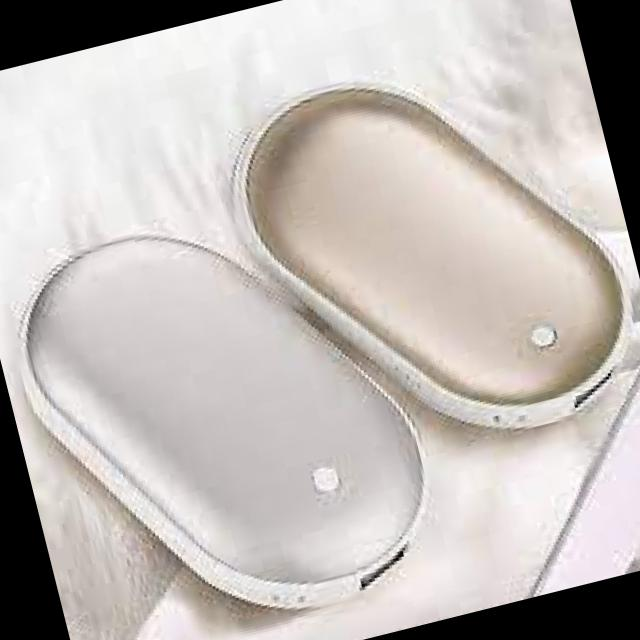power_bank: (0, 174, 460, 640), (210, 24, 640, 486)
